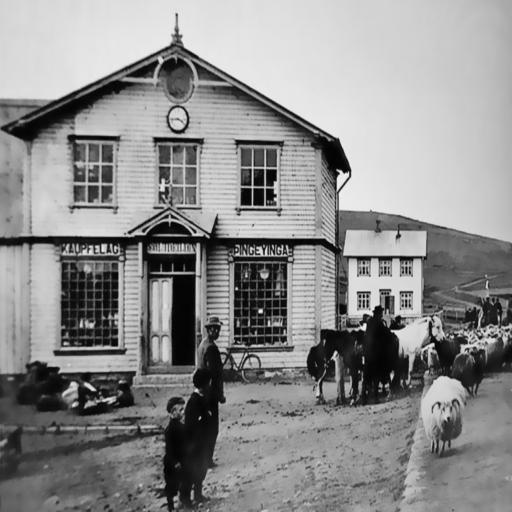horse: (320, 332, 402, 406), (396, 312, 446, 386)
